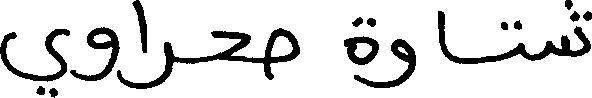X: (438, 0, 591, 68), (0, 24, 68, 97), (70, 22, 119, 85), (346, 12, 378, 92), (265, 23, 299, 84), (380, 34, 415, 92), (212, 26, 250, 66), (147, 37, 172, 92), (134, 0, 145, 93)
